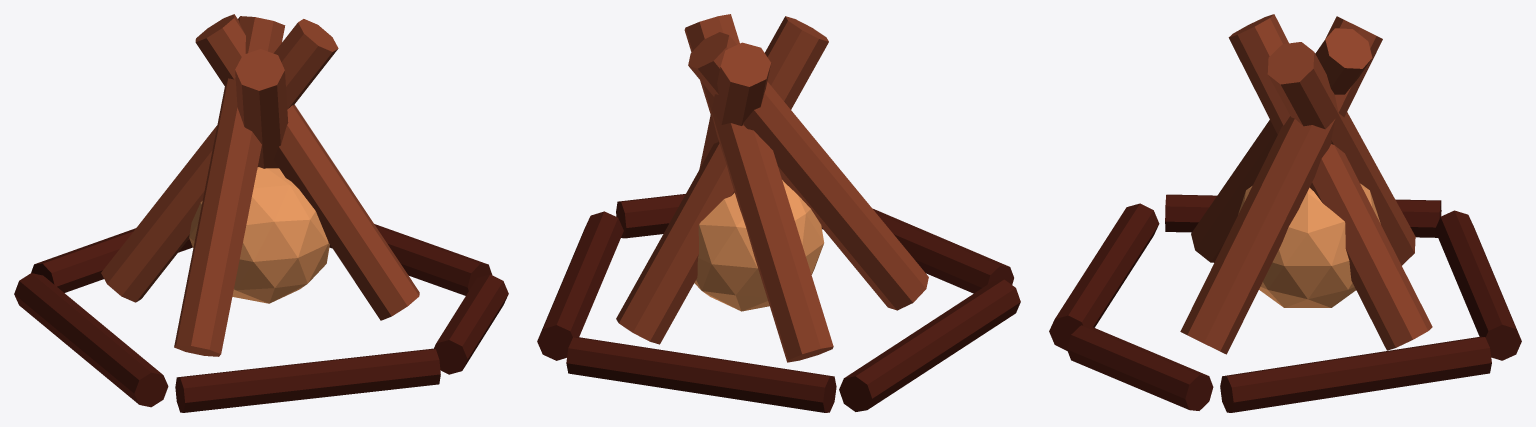
File: fire.fbx
3 renders of one model, left to right at view 1: azimuth 30°, elevation 25°; view 2: azimuth 150°, elevation 25°; view 3: azimuth 270°, elevation 25°, orthographic. The views are drawn at different scales.
Parts seen in each view (by area): view 1: Cylinder.045, Cylinder.048, Cylinder.046, Cylinder.052, Icosphere, Cylinder.049, Cylinder.047, Cylinder.053, Cylinder.051, Cylinder.050; view 2: Cylinder.045, Cylinder.046, Cylinder.047, Cylinder.050, Cylinder.049, Icosphere, Cylinder.051, Cylinder.052, Cylinder.048, Cylinder.053; view 3: Cylinder.048, Cylinder.047, Cylinder.051, Cylinder.046, Icosphere, Cylinder.045, Cylinder.053, Cylinder.052, Cylinder.050, Cylinder.049.
Part boxes in pixels (x1,y1,x2,y2): Cylinder.045: (174, 16, 285, 356); Cylinder.048: (195, 14, 419, 320); Cylinder.046: (101, 19, 338, 302); Cylinder.052: (175, 348, 440, 412); Icosphere: (189, 167, 329, 303); Cylinder.049: (14, 273, 168, 407); Cylinder.047: (235, 49, 288, 168); Cylinder.053: (433, 274, 508, 374); Cylinder.051: (329, 224, 492, 295); Cylinder.050: (31, 228, 192, 292); Cylinder.045: (688, 32, 928, 310); Cylinder.046: (684, 14, 833, 362); Cylinder.047: (616, 16, 828, 344); Cylinder.050: (566, 337, 836, 412); Cylinder.049: (839, 279, 1020, 411); Icosphere: (694, 180, 824, 311); Cylinder.051: (537, 211, 623, 360); Cylinder.052: (822, 208, 1013, 293); Cylinder.048: (699, 42, 770, 169); Cylinder.053: (616, 194, 685, 238); Cylinder.048: (1180, 16, 1382, 354); Cylinder.047: (1228, 14, 1432, 350); Cylinder.051: (1220, 336, 1491, 412); Cylinder.046: (1267, 42, 1415, 265); Icosphere: (1238, 183, 1380, 307); Cylinder.045: (1191, 28, 1372, 262); Cylinder.053: (1067, 325, 1213, 410); Cylinder.052: (1049, 203, 1159, 350); Cylinder.050: (1435, 210, 1521, 360); Cylinder.049: (1165, 194, 1441, 237).
Bounding box in the file's own units: 2.66 × 1.86 × 2.69.
